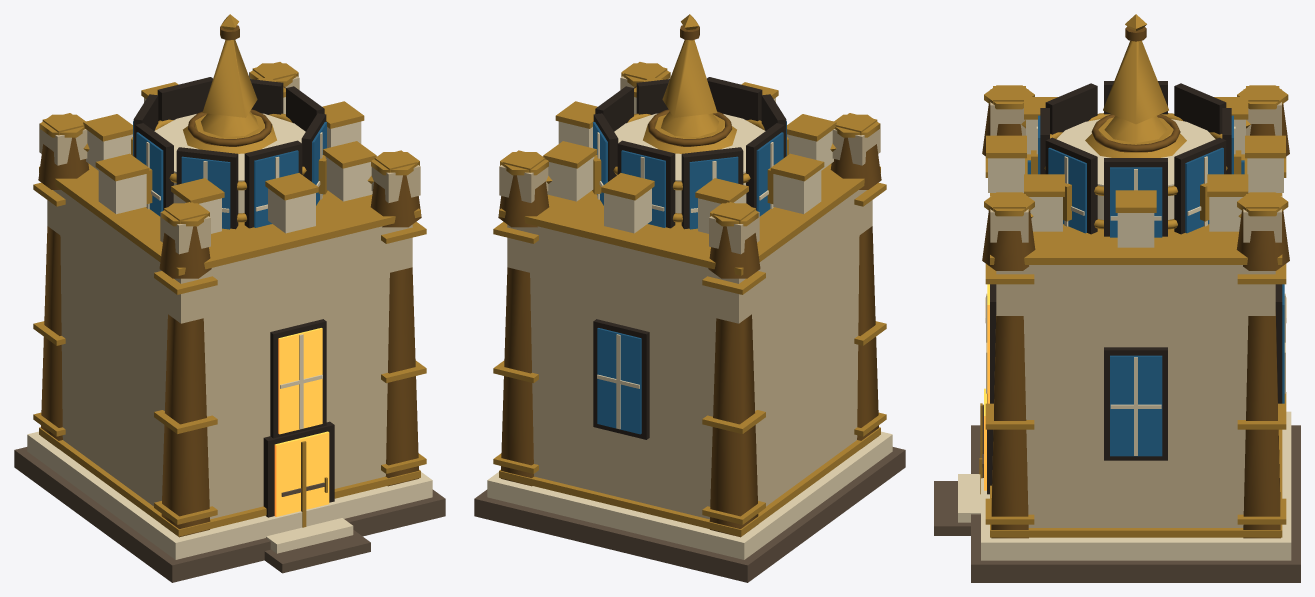
The model's file is asset.glb.
3 views of the same model, side by side, from view 1: azimuth 30°, elevation 25°; view 2: azimuth 150°, elevation 25°; view 3: azimuth 270°, elevation 25° (orthographic). The views are drawn at different scales.
Parts seen in each view (by area): view 1: OrnateTower; view 2: OrnateTower; view 3: OrnateTower.
Part boxes in pixels (x1,y1,x2,y2): OrnateTower: [14, 14, 445, 582]; OrnateTower: [474, 14, 905, 582]; OrnateTower: [934, 14, 1300, 582].
Bounding box in the file's own units: 5.55 × 9.27 × 6.18.
